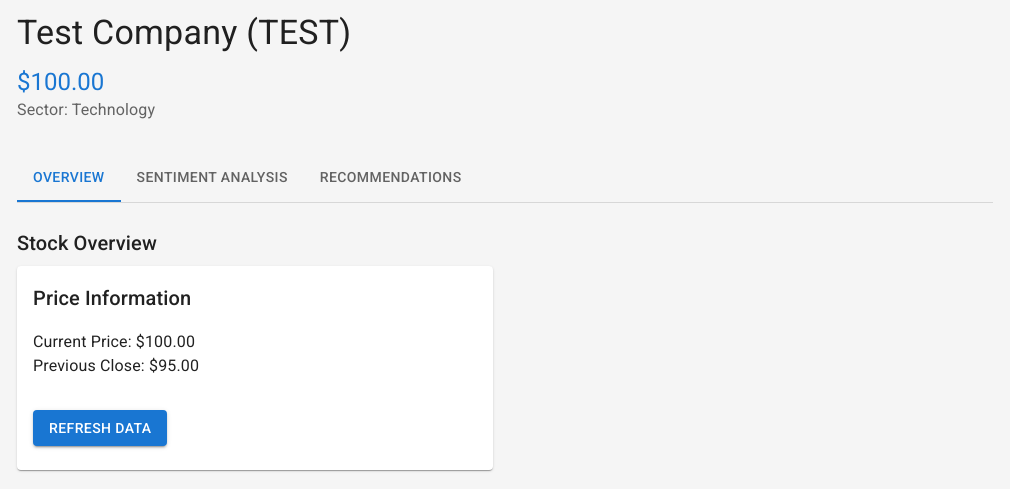
StockDetails Component › shows sentiment error if sentiment API fails
Click the tab "Sentiment Analysis" at point(212, 178), box [121,154,304,202]
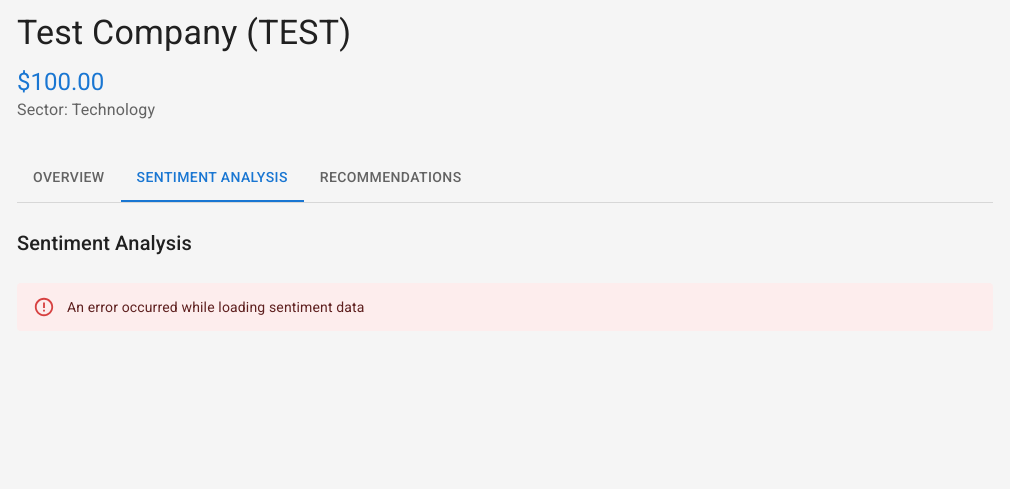
Check: the text "An error occurred while loading sentiment data" is shown, box [67,299,365,315]
